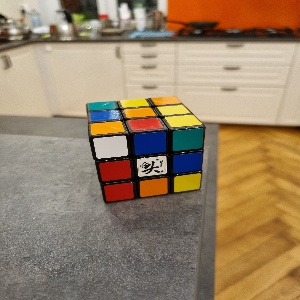cube: (85, 96, 206, 204)
